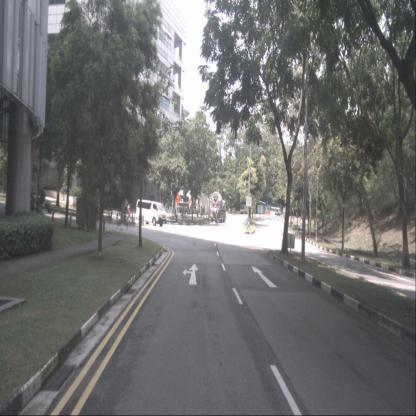human-pedestrian-adult: (127, 204, 131, 220), (244, 206, 245, 215)
vehicle-bicycle: (127, 203, 132, 219)
vehicle-bus-rigid: (266, 206, 282, 216)
vehicle-car: (136, 199, 167, 226)
vehicle-truck: (178, 190, 200, 214), (240, 204, 246, 214)
